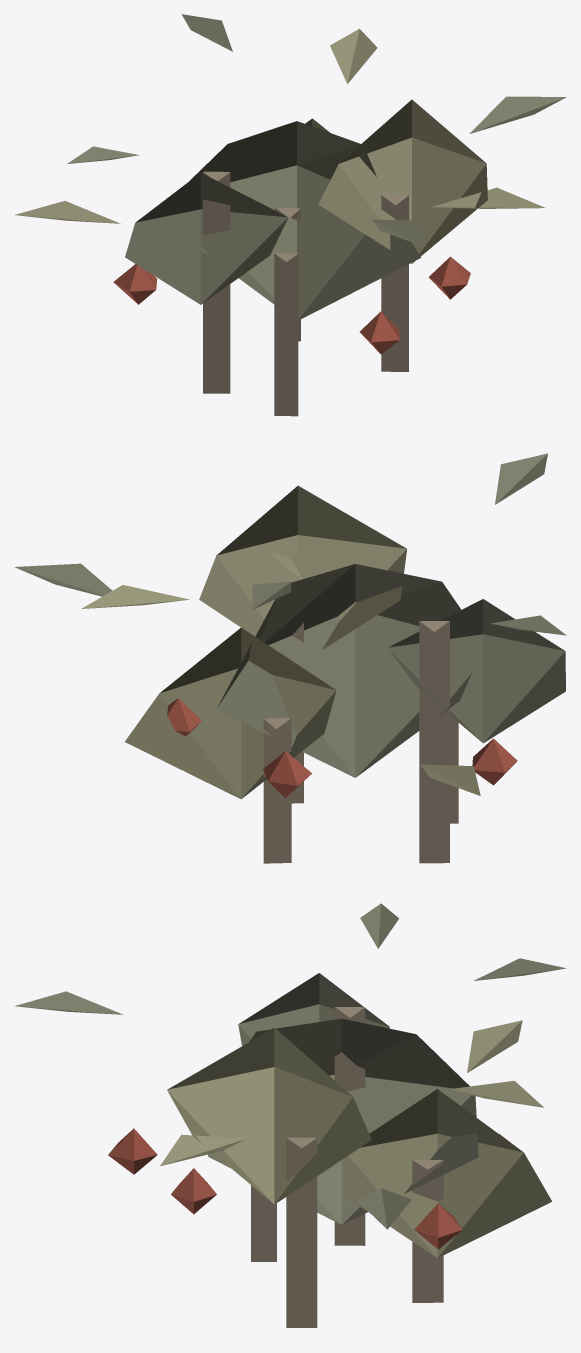
File: guan.moli@fruiting__winter.glb
3 renders of one model, top to bottom at view 1: azimuth 30°, elevation 25°; view 2: azimuth 150°, elevation 25°; view 3: azimuth 270°, elevation 25°, orthographic. The views are drawn at different scales.
Visible parts, largest first — view 1: guan.moli@fruiting__winter; view 2: guan.moli@fruiting__winter; view 3: guan.moli@fruiting__winter.
Boxes of the visible parts, box(x1,y1,x2,y2) form: guan.moli@fruiting__winter: box(15, 14, 566, 416); guan.moli@fruiting__winter: box(14, 453, 566, 863); guan.moli@fruiting__winter: box(14, 903, 565, 1327).
Size of the model in its own units: 2.34 by 1.31 by 2.06.
